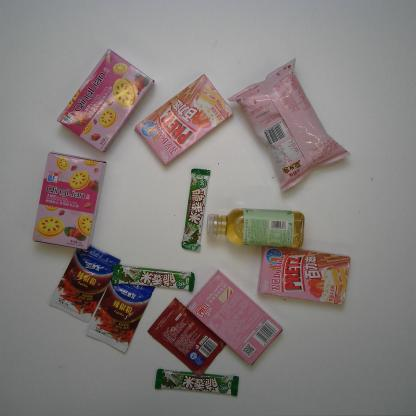Chocolate: (154, 366, 240, 400), (109, 261, 196, 294), (179, 166, 212, 252)
Dessert: (55, 48, 156, 152), (185, 270, 284, 366), (134, 74, 232, 166), (31, 152, 107, 252), (256, 244, 352, 306)
Drink: (206, 207, 305, 251)
Puffed Food: (228, 58, 352, 194)
Seasoner: (146, 297, 229, 377), (84, 268, 155, 353), (49, 241, 121, 322)
